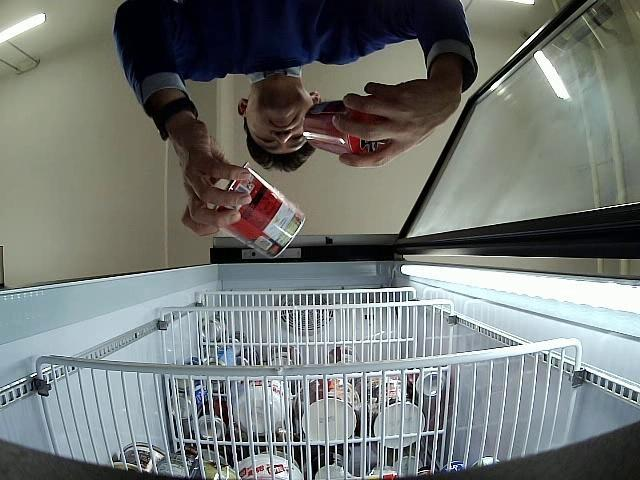02_shinRamen_S: (216, 162, 306, 256), (302, 99, 392, 159)
